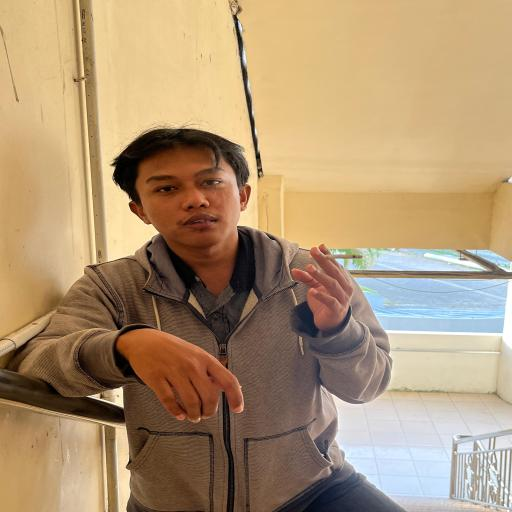terdeteksi pegang rokok: (274, 232, 372, 332)
